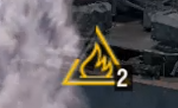2fire: (59, 55, 135, 94)
